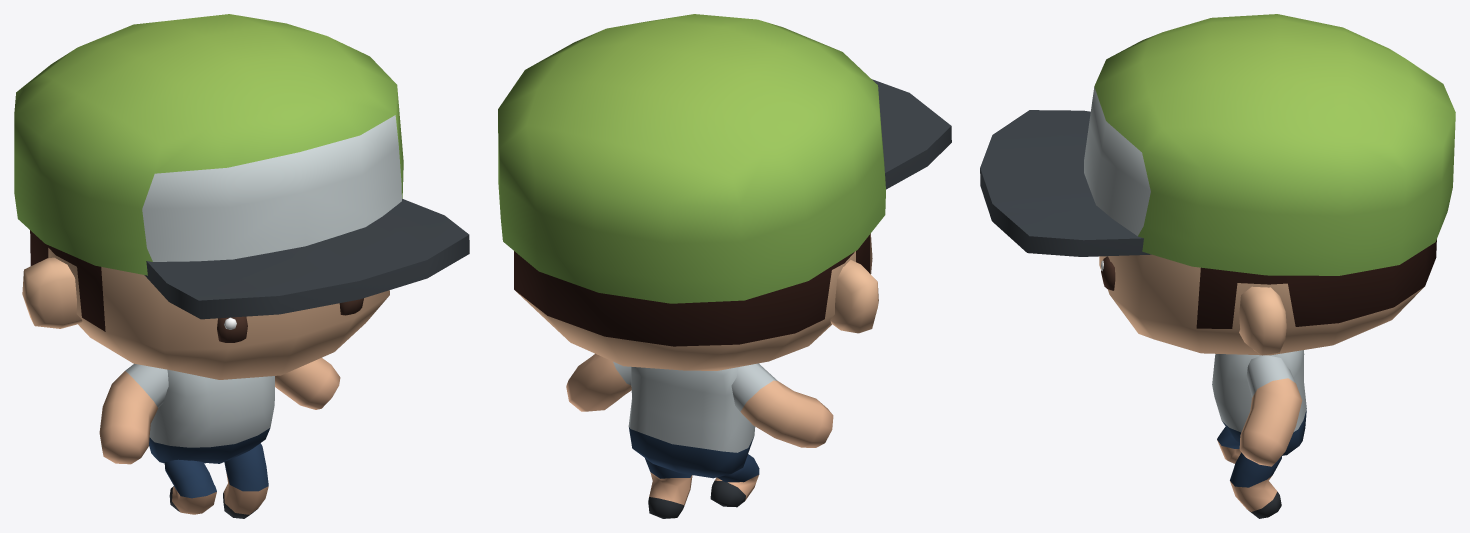
File: run_0005.obj
3 renders of one model, left to right at view 1: azimuth 30°, elevation 25°; view 2: azimuth 150°, elevation 25°; view 3: azimuth 270°, elevation 25°, orthographic. The views are drawn at different scales.
Parts seen in each view (by area): view 1: Object_41, Object_42, Object_36, Object_44, Object_38; view 2: Object_41, Object_36, Object_44, Object_42; view 3: Object_41, Object_36, Object_42, Object_44.
Part boxes in pixels (left/top/right/bottom): Object_41: left=14, top=14, right=403, bottom=275; Object_42: left=142, top=115, right=469, bottom=319; Object_36: left=22, top=230, right=389, bottom=379; Object_44: left=99, top=357, right=340, bottom=518; Object_38: left=217, top=298, right=363, bottom=342; Object_41: left=498, top=14, right=885, bottom=303; Object_36: left=514, top=233, right=878, bottom=370; Object_44: left=566, top=353, right=833, bottom=518; Object_42: left=872, top=79, right=951, bottom=189; Object_41: left=1094, top=14, right=1455, bottom=275; Object_36: left=1099, top=239, right=1436, bottom=355; Object_42: left=980, top=87, right=1151, bottom=256; Object_44: left=1212, top=350, right=1306, bottom=518.
Size of the model in its own units: 0.9691 by 1.21 by 1.13.
